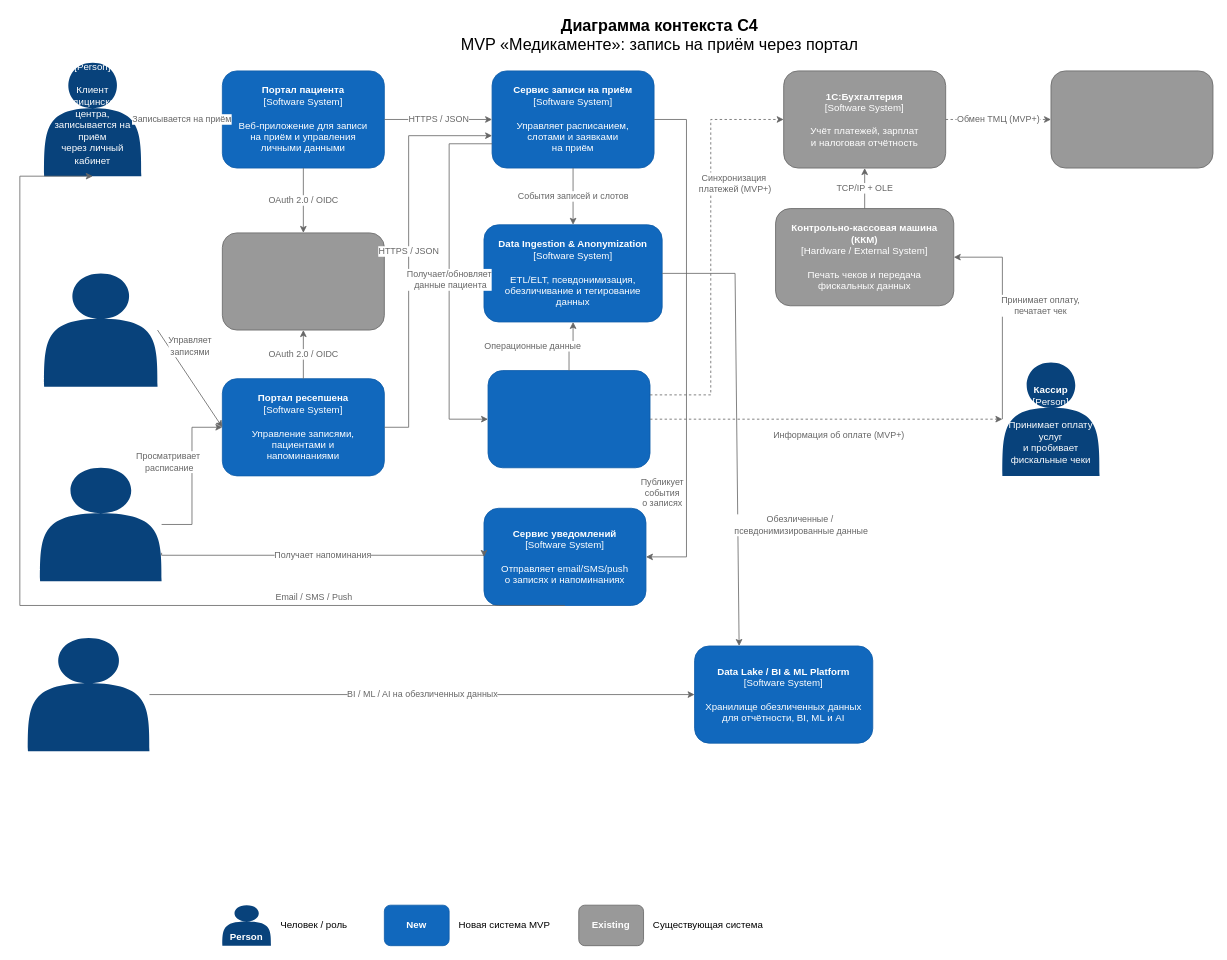
Some shapes in this 1227 by 960 pixel diagram are drawn without their labels. Each missing label, with the box of its shape:
1С:Торговля и склад [Software System] Учёт ТМЦ и закупок: (1050, 70, 1213, 168)
CRM [Software System] Единая система учёта пациентов, контактов и договоров: (487, 370, 650, 468)
IAM / Keycloak + AD [Software System] Аутентификация, SSO, MFA, RBAC/ABAC: (222, 232, 384, 330)
Аналитик / Data Scientist [Person] Работает с обезличенными данными в BI и ML: (28, 637, 149, 751)
Медицинский специалист [Person] Получает расписание и напоминания о приёмах: (40, 467, 161, 581)
Сотрудник ресепшена [Person] Подтверждает записи и отправляет напоминания: (44, 273, 157, 386)
